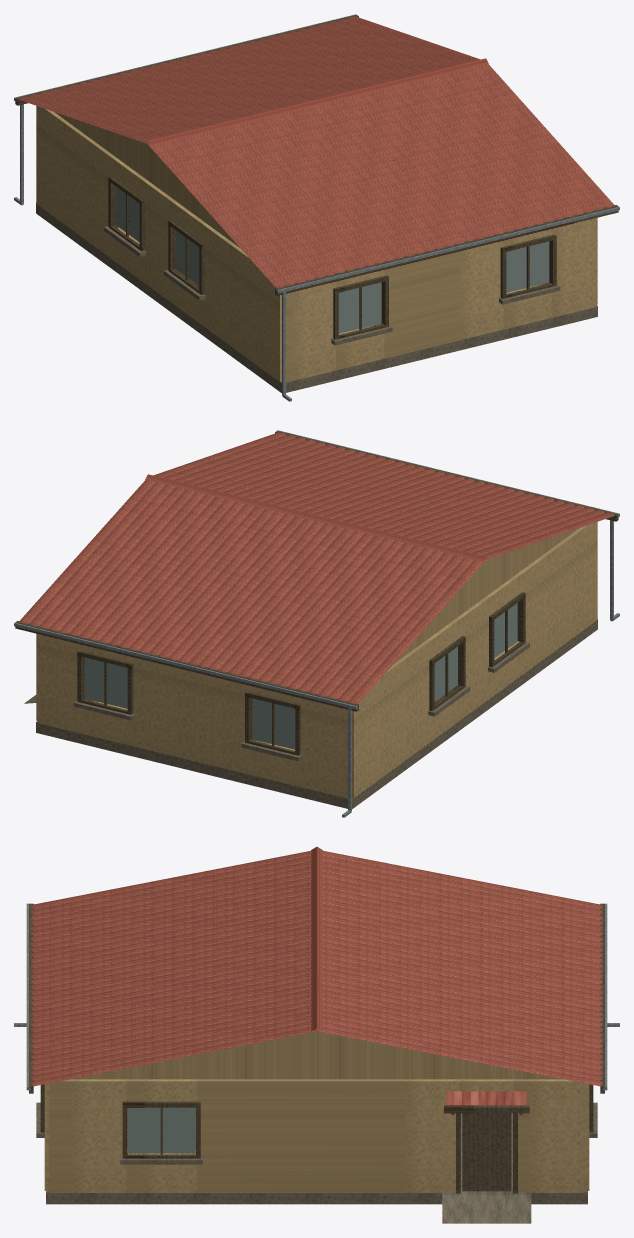
3 views of the same model, one above another, from view 1: azimuth 30°, elevation 25°; view 2: azimuth 150°, elevation 25°; view 3: azimuth 270°, elevation 25° (orthographic). The views are drawn at different scales.
Parts seen in each view (by area): view 1: H04_TELHAS, H04_LATERAIS, H04_FUNDOS, H04_FUNDACAO, H04_VIDROS_RECUADOS, H04_CAIXILHOS, H04_OITOES, H04_BEIRAIS, H04_CUMEEIRA, H04_CALHA, H04_PEITORIS, H04_CONDUTOR_PLUVIAL (+1 smaller); view 2: H04_TELHAS, H04_LATERAIS, H04_FUNDOS, H04_FUNDACAO, H04_VIDROS_RECUADOS, H04_CAIXILHOS, H04_OITOES, H04_BEIRAIS, H04_CUMEEIRA, H04_CALHA, H04_PEITORIS, H04_CONDUTOR_PLUVIAL (+1 smaller); view 3: H04_TELHAS, H04_FACHADA, H04_OITOES, H04_FUNDACAO, H04_PORTA_FOLHA, H04_VIDROS_RECUADOS, H04_RAMPA, H04_CUMEEIRA, H04_CAIXILHOS, H04_BEIRAIS, H04_LATERAIS, H04_ALPENDRE_COBERTURA (+4 smaller).
Part boxes in pixels (x1,y1,x2,y2): H04_TELHAS: (19,16,614,287); H04_LATERAIS: (286,218,595,382); H04_FUNDOS: (36,106,281,381); H04_FUNDACAO: (36,203,597,392); H04_VIDROS_RECUADOS: (116,187,549,333); H04_CAIXILHOS: (108,176,556,339); H04_OITOES: (54,112,239,247); H04_BEIRAIS: (15,14,618,295); H04_CUMEEIRA: (146,58,488,146); H04_CALHA: (14,14,619,293); H04_PEITORIS: (104,226,560,345); H04_CONDUTOR_PLUVIAL: (20,104,285,395); H04_TELHAS: (19,432,614,703); H04_LATERAIS: (38,634,347,798); H04_FUNDOS: (352,522,597,797); H04_FUNDACAO: (36,619,597,808); H04_VIDROS_RECUADOS: (84,603,517,749); H04_CAIXILHOS: (77,592,525,755); H04_OITOES: (394,528,579,663); H04_BEIRAIS: (15,430,618,711); H04_CUMEEIRA: (145,474,487,562); H04_CALHA: (14,430,619,709); H04_PEITORIS: (73,642,529,761); H04_CONDUTOR_PLUVIAL: (348,520,613,811); H04_TELHAS: (31,851,602,1086); H04_FACHADA: (49,1079,584,1192); H04_OITOES: (71,1031,562,1079); H04_FUNDACAO: (46,1107,587,1204); H04_PORTA_FOLHA: (462,1113,511,1191); H04_VIDROS_RECUADOS: (128,1107,195,1153); H04_RAMPA: (442,1195,531,1223); H04_CUMEEIRA: (311,846,322,1031); H04_CAIXILHOS: (40,1084,593,1158); H04_BEIRAIS: (29,903,604,1093); H04_LATERAIS: (44,1083,589,1190); H04_ALPENDRE_COBERTURA: (446,1091,526,1105).
Bounding box in the file's own units: 9.92 × 4.28 × 12.9.
8 materials, 7 textured.
